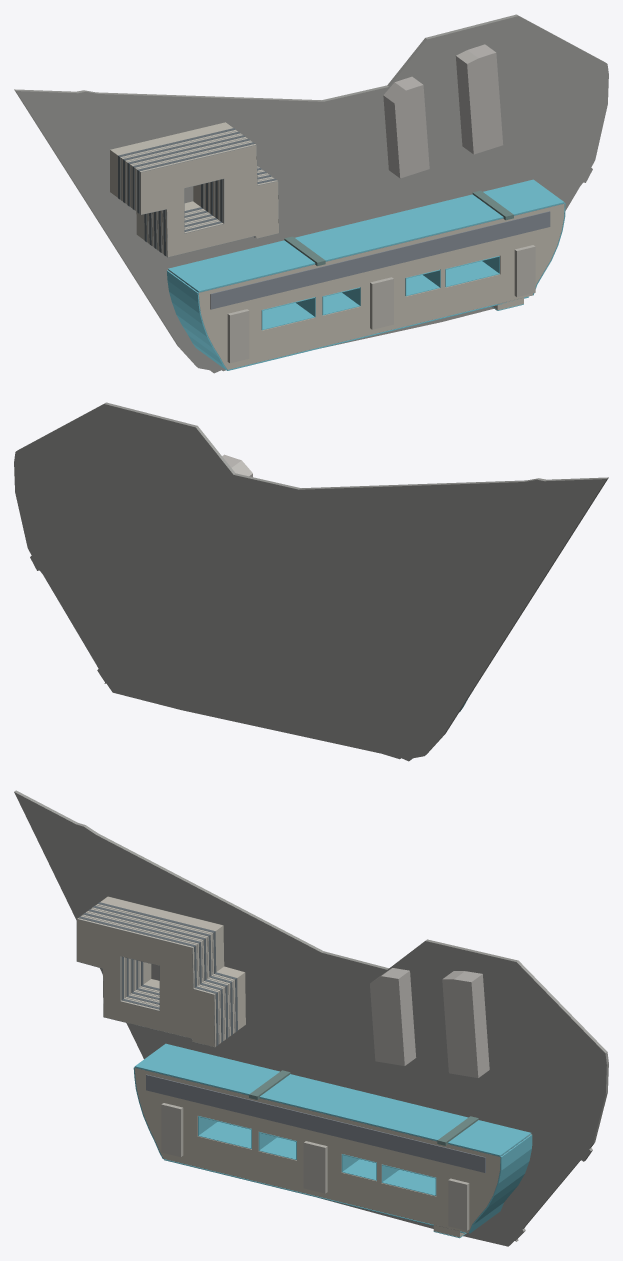
The model's file is kanfei-nesharim-22.glb.
3 renders of one model, top to bottom at view 1: azimuth 30°, elevation 25°; view 2: azimuth 150°, elevation 25°; view 3: azimuth 330°, elevation 25°, orthographic.
Visible parts, largest first — view 1: Site_plate, Building_1_Rieger_Federman_envelope, Building_2_envelope, highlight_north, Roof_plant_and_solar, Building_2_window_bands, Low_eastern_building_2, Low_eastern_building_1, highlight_patio, highlight_west, Rear_stair_towers, highlight_south (+1 smaller); view 2: Site_plate; view 3: Site_plate, Building_1_Rieger_Federman_envelope, Building_2_envelope, highlight_north, Roof_plant_and_solar, Building_2_window_bands, Low_eastern_building_2, Low_eastern_building_1, highlight_patio, highlight_east, Rear_stair_towers.
Part boxes in pixels (x1,y1,x2,y2): Site_plate: (14,14,608,373); Building_1_Rieger_Federman_envelope: (199,204,564,369); Building_2_envelope: (110,122,278,256); highlight_north: (168,179,564,292); Roof_plant_and_solar: (210,211,550,363); Building_2_window_bands: (118,128,279,257); Low_eastern_building_2: (455,44,503,154); Low_eastern_building_1: (383,76,429,178); highlight_patio: (261,256,499,330); highlight_west: (167,270,227,370); Rear_stair_towers: (284,190,513,266); highlight_south: (227,296,528,370); Site_plate: (14,402,608,761); Site_plate: (14,790,608,1246); Building_1_Rieger_Federman_envelope: (135,1068,500,1232); Building_2_envelope: (77,896,245,1046); highlight_north: (134,1043,531,1156); Roof_plant_and_solar: (146,1074,485,1230); Building_2_window_bands: (76,902,237,1047); Low_eastern_building_2: (442,971,489,1077); Low_eastern_building_1: (370,968,416,1065); highlight_patio: (198,1116,436,1195); highlight_east: (469,1134,532,1233); Rear_stair_towers: (249,1070,478,1145).
Bounding box in the file's own units: 241 × 130 × 24.9.
